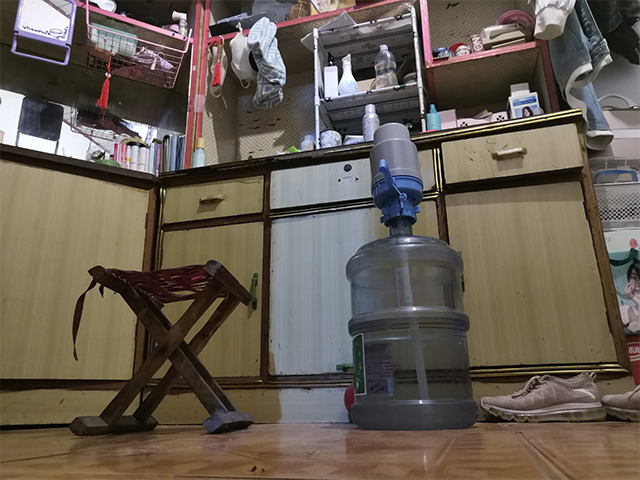cabinet: (1, 106, 636, 431)
stool: (68, 256, 260, 438)
